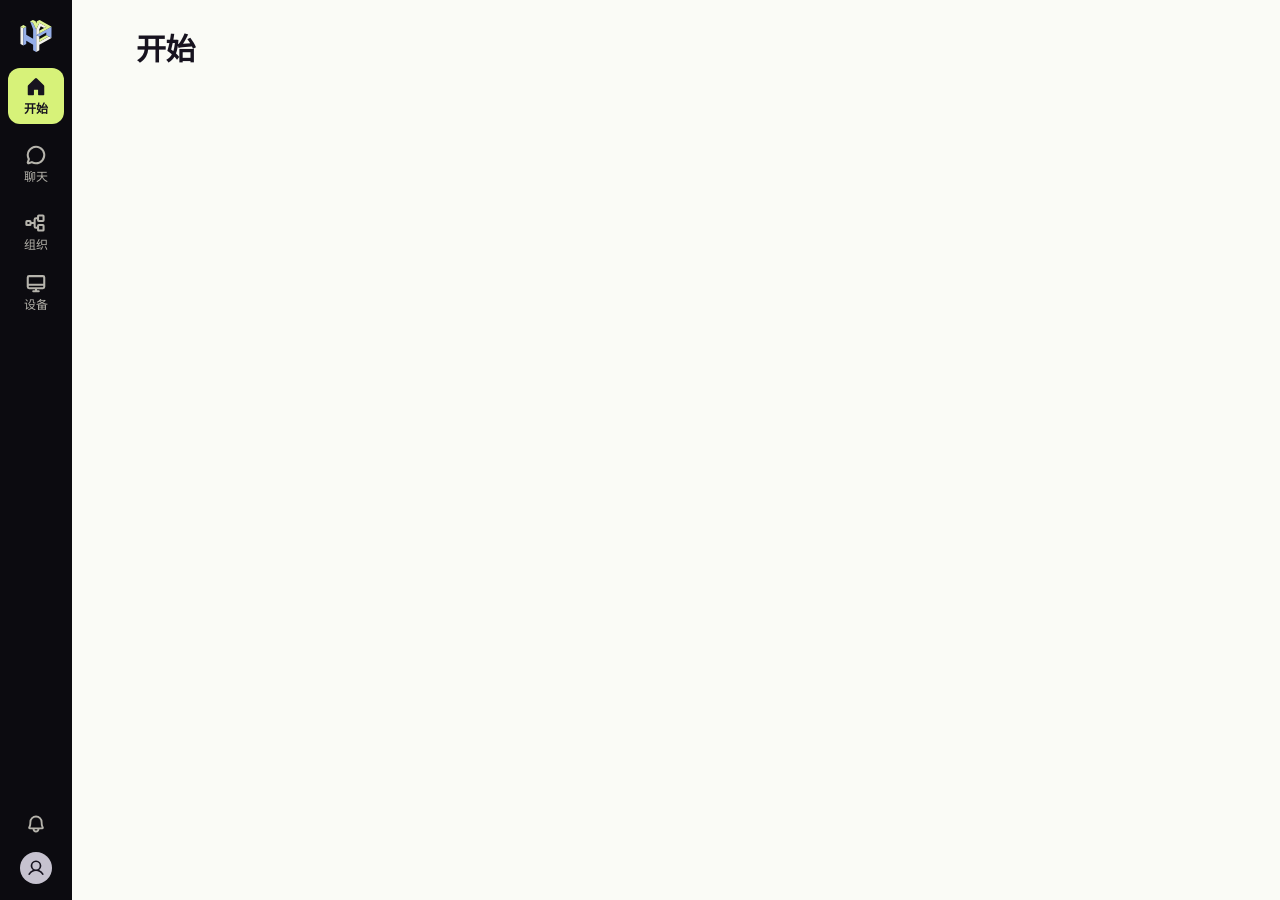
J7 integration: mounting and product defaults › TC-004 keeps the J5 invitation state while the topology renders
Click the button "组织" at (36, 232), box [8, 204, 64, 260]
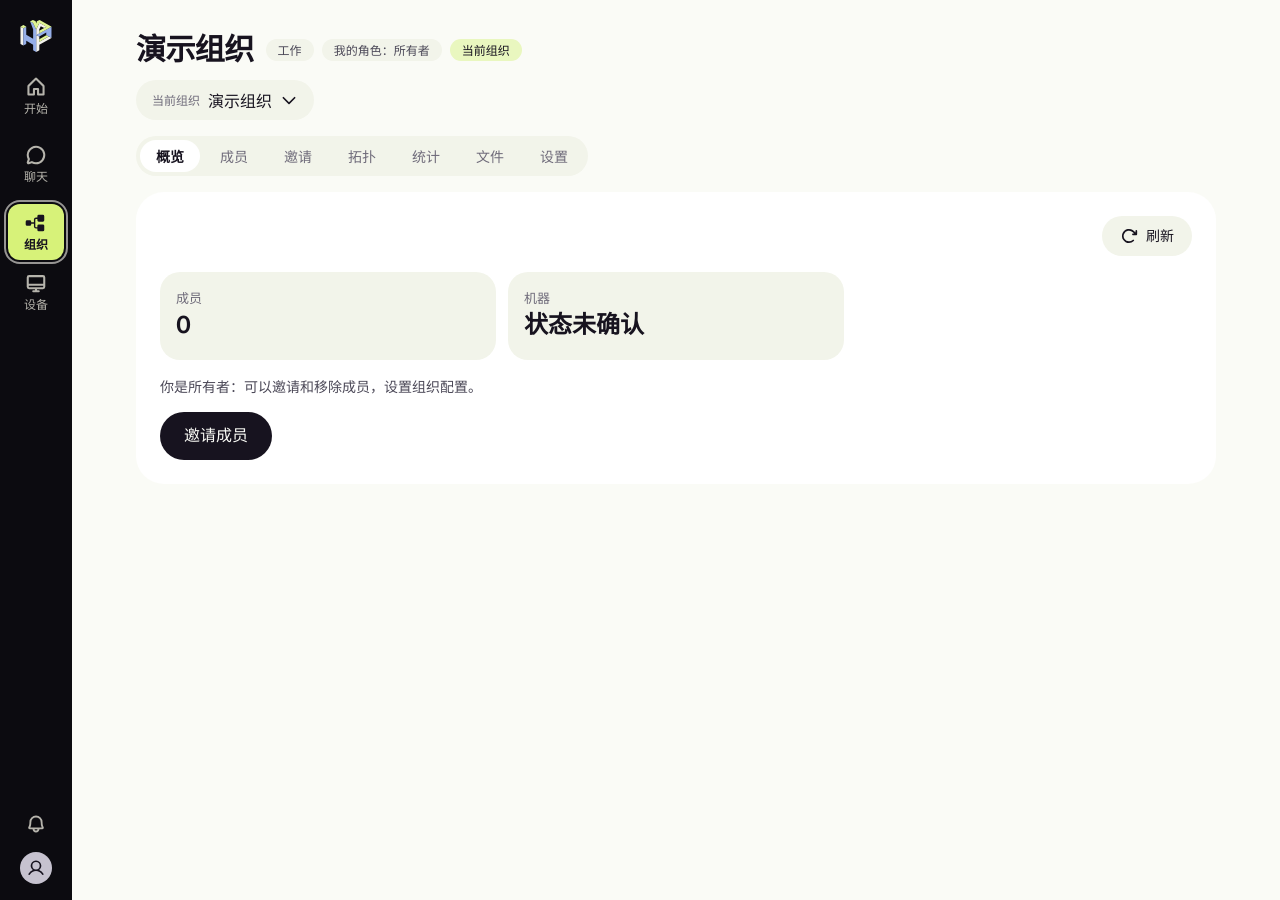
Click the tab "拓扑" at (362, 156), box [332, 140, 392, 172]
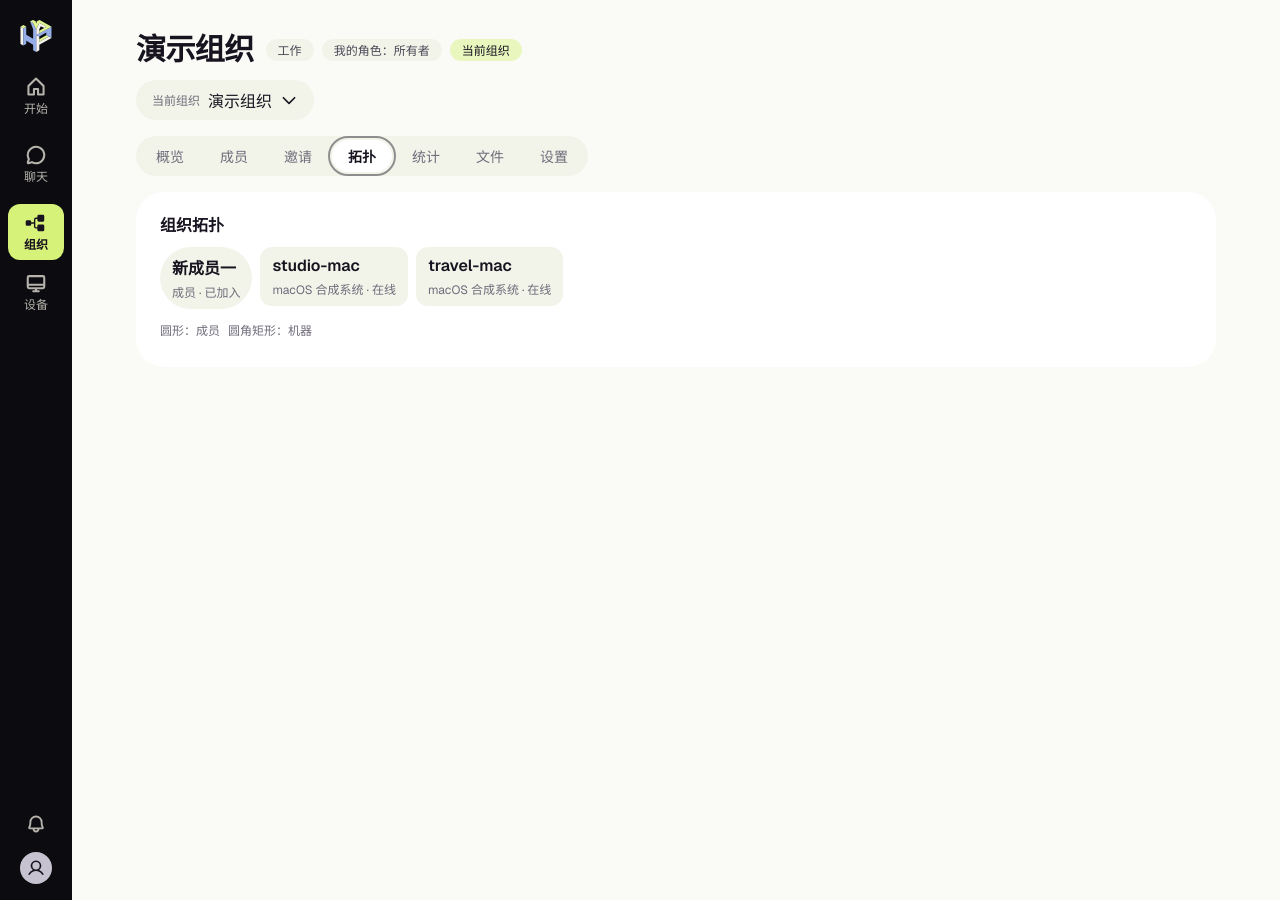
Expected: the tab "邀请" is shown, [268, 140, 328, 172]
Expected: the element with class "org-topology" is shown, [160, 215, 563, 339]
